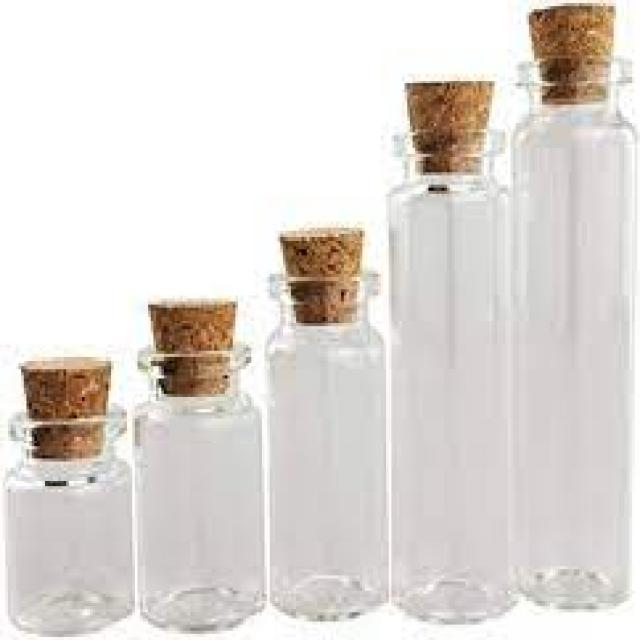Glass-Non-Biodegradable but Recyclable-: (506, 58, 636, 613), (5, 405, 134, 640)
